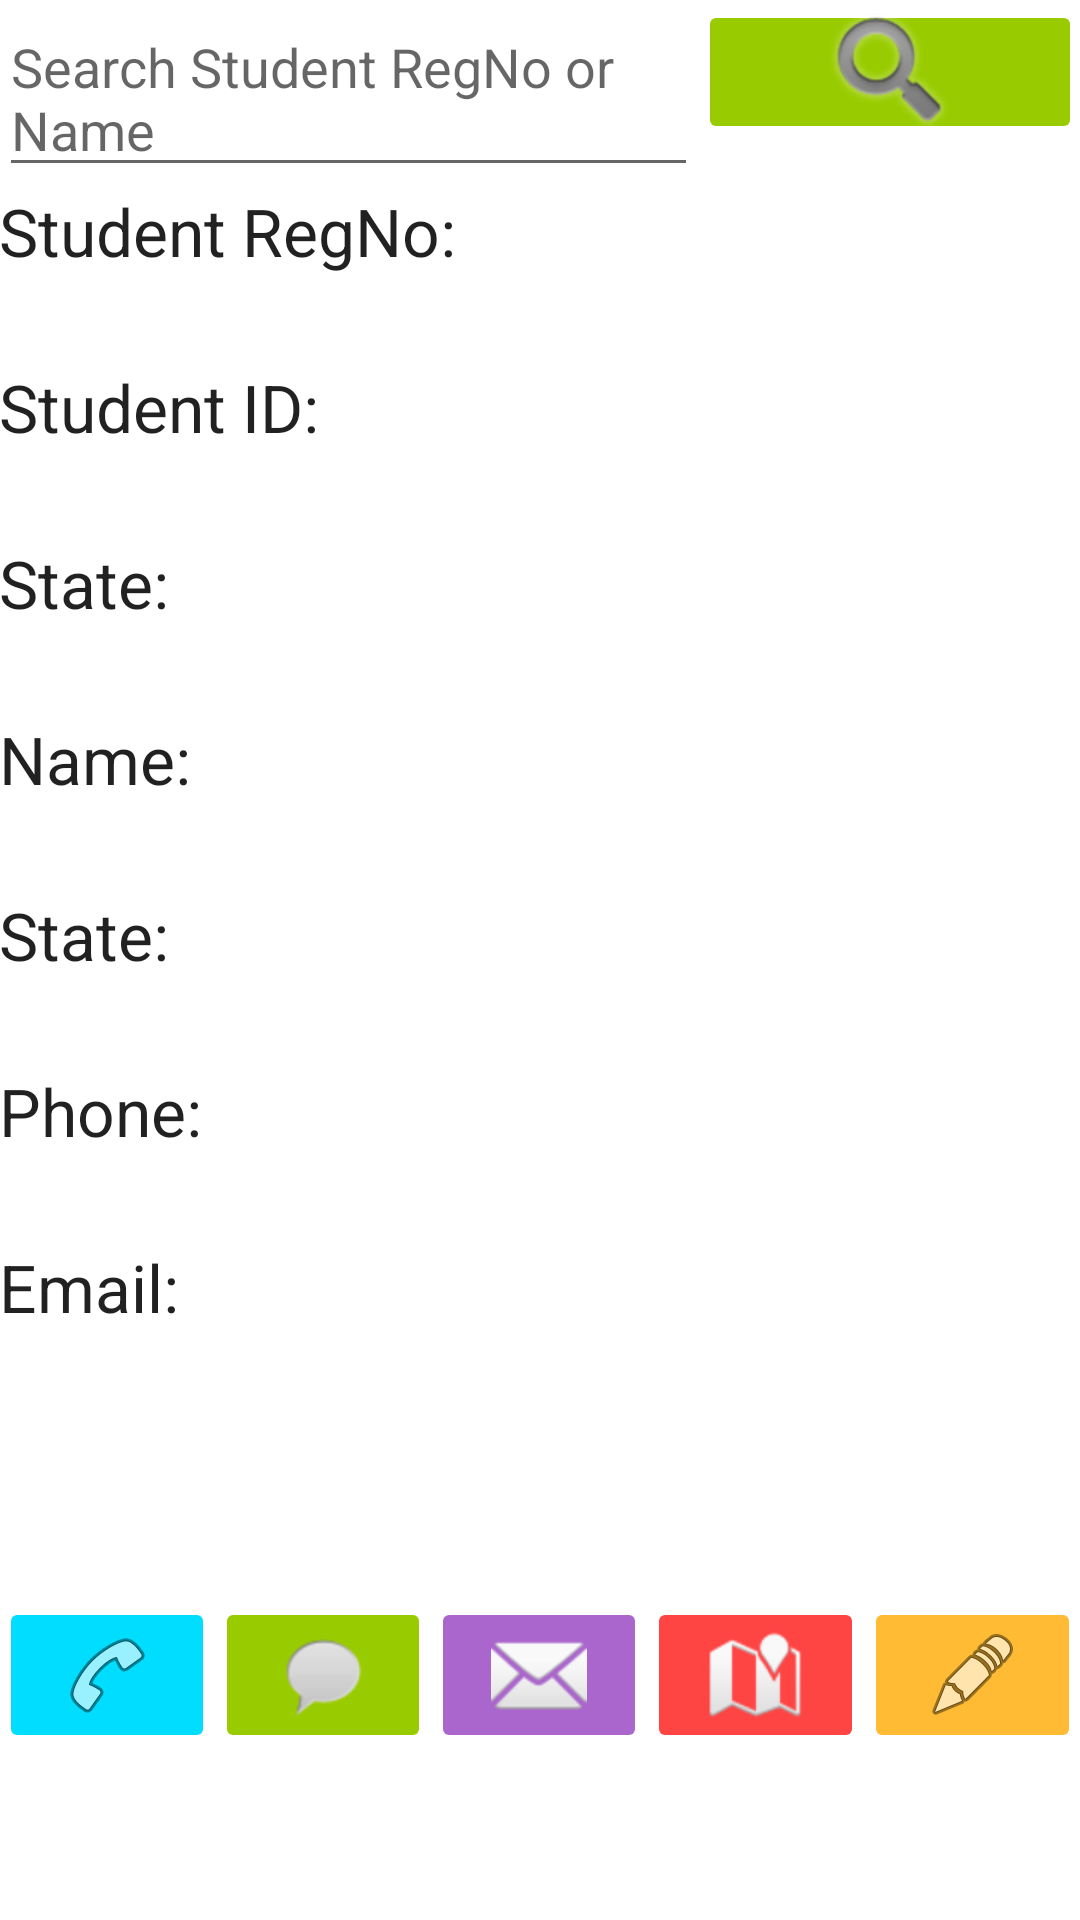

Locate icon controls on the screen. Image size 1080px×1920px, boxes as [left=x1, top=y1, right=x2, bottom=y2].
call: [left=11, top=1615, right=203, bottom=1735]
edit: [left=876, top=1615, right=1069, bottom=1735]
email: [left=443, top=1615, right=635, bottom=1735]
map: [left=659, top=1615, right=852, bottom=1735]
search category: [left=710, top=17, right=1070, bottom=126]
sym action chat: [left=227, top=1615, right=419, bottom=1735]
